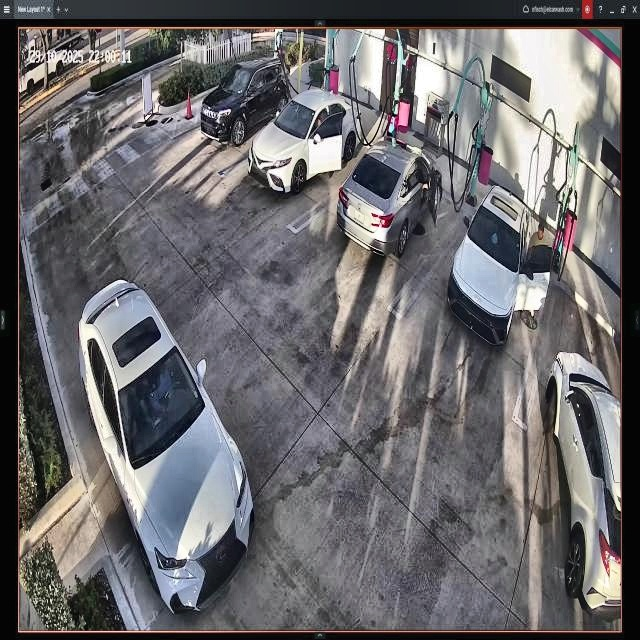Car: (80, 281, 255, 613), (449, 188, 552, 345), (334, 135, 441, 254), (253, 92, 361, 188), (199, 59, 290, 146)
